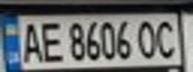0: (100, 18, 118, 62)
6: (115, 18, 136, 61), (84, 18, 103, 62)
8: (63, 19, 87, 62)
A: (15, 18, 45, 64)
C: (151, 16, 181, 60)
E: (36, 18, 63, 64)
O: (133, 17, 160, 61)
